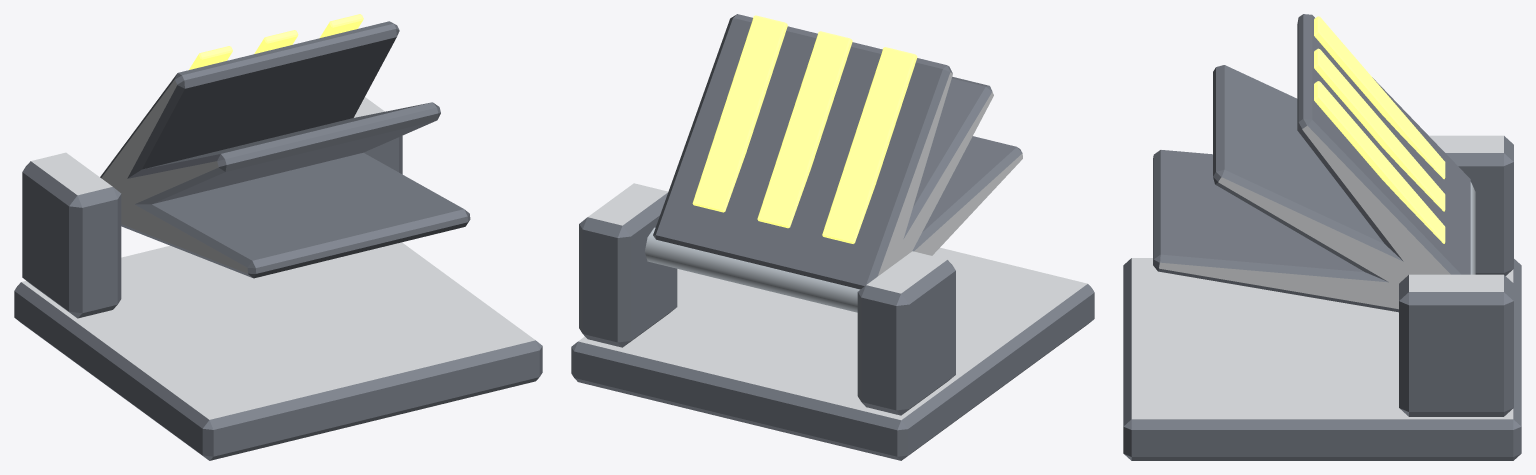
The model's file is R4X_RampDeployer_LOD1.fbx.
3 renders of one model, left to right at view 1: azimuth 30°, elevation 25°; view 2: azimuth 150°, elevation 25°; view 3: azimuth 270°, elevation 25°, orthographic. The views are drawn at different scales.
Parts seen in each view (by area): view 1: R4X_RampDeployer_LOD1; view 2: R4X_RampDeployer_LOD1; view 3: R4X_RampDeployer_LOD1.
Part boxes in pixels (bbox=[...]): R4X_RampDeployer_LOD1: bbox=[14, 14, 542, 460]; R4X_RampDeployer_LOD1: bbox=[571, 14, 1094, 460]; R4X_RampDeployer_LOD1: bbox=[1123, 14, 1521, 460].
Size of the model in its own units: 0.52 by 0.4673 by 0.52.
